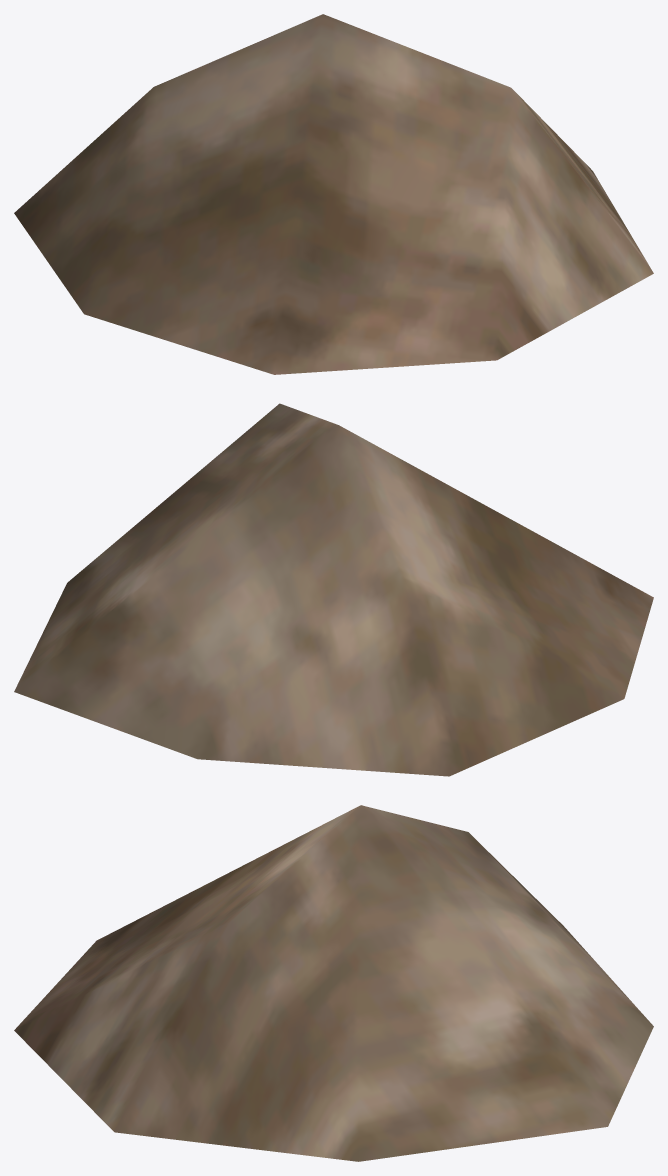
File: OVERHILL_A_01_ROCK92.fbx
The picture shows the model from 3 angles, top to bottom: view 1: azimuth 30°, elevation 25°; view 2: azimuth 150°, elevation 25°; view 3: azimuth 270°, elevation 25°; orthographic projection.
Parts seen in each view (by area): view 1: OVERHILL_A_01_ROCK92; view 2: OVERHILL_A_01_ROCK92; view 3: OVERHILL_A_01_ROCK92.
Boxes of the visible parts, x1,y1,x2,y2 form: OVERHILL_A_01_ROCK92: (14,14,653,374); OVERHILL_A_01_ROCK92: (14,403,653,776); OVERHILL_A_01_ROCK92: (14,805,653,1161).
Size of the model in its own units: 1849 by 741 by 1916.
Materials: 1 (1 with a texture image).
